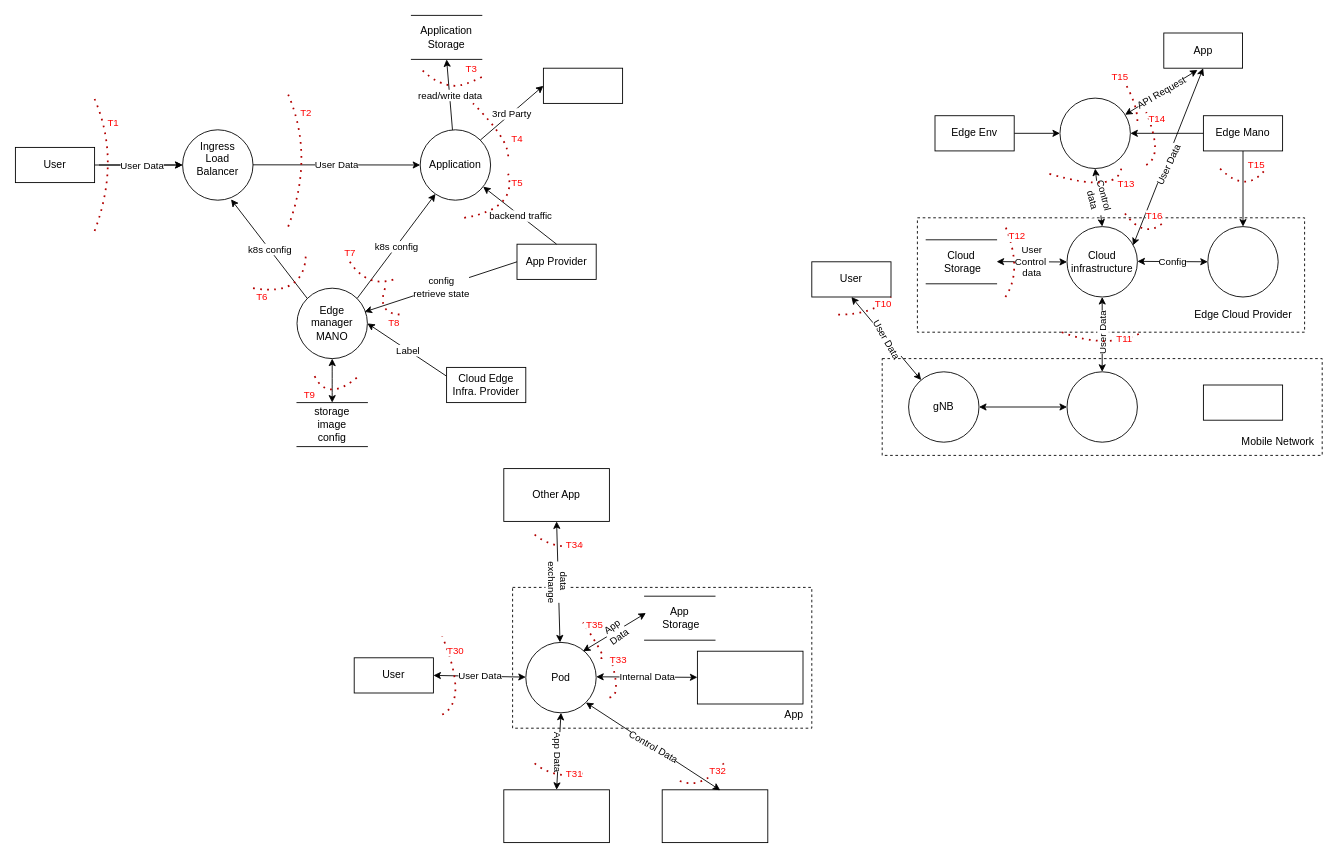
Some shapes in this 1338 by 858 pixel diagram are drawn without their labels. The centre of each missing label's shape, as x and y in pixels:
"Core NW" belongs at (1243,402).
"Internet Edge" belongs at (583,85).
"k8s Control Plane" belongs at (1094,133).
"MEC Services" belongs at (714,816).
"Other Pods" belongs at (750,677).
"Shared Cloud Services" belongs at (556,816).
"UPF" belongs at (1101,406).
"VIM" belongs at (1242,261).
